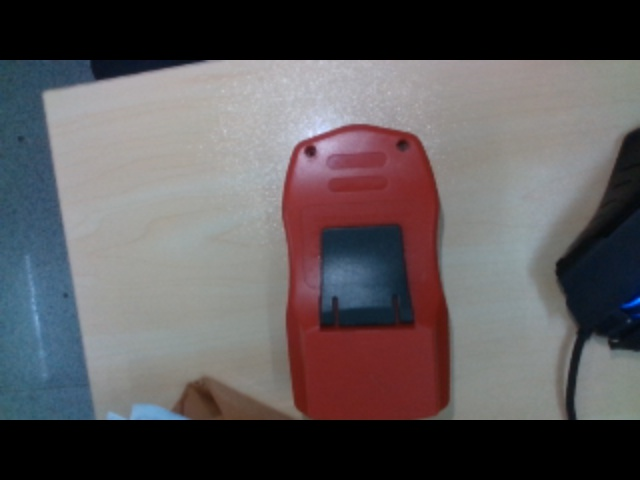Multimeter: (280, 122, 452, 418)
Screw holes: (302, 144, 319, 161), (394, 139, 410, 154)
